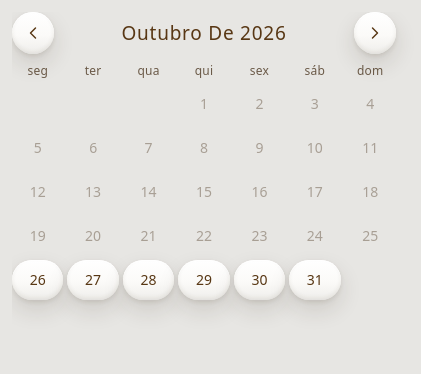
Scenario: MonthCalendar › changes month with the arrows and reports the new month
The image size is (421, 374).
Expected: the heading "outubro de 2026" is shown, [121,20,287,46]
Click the button named "Próximo mês". click: (375, 33)
box: [354,12,396,54]
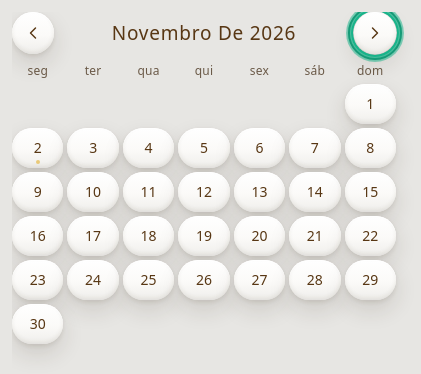
Now the heading "novembro de 2026" is shown, box [112,20,296,46]
